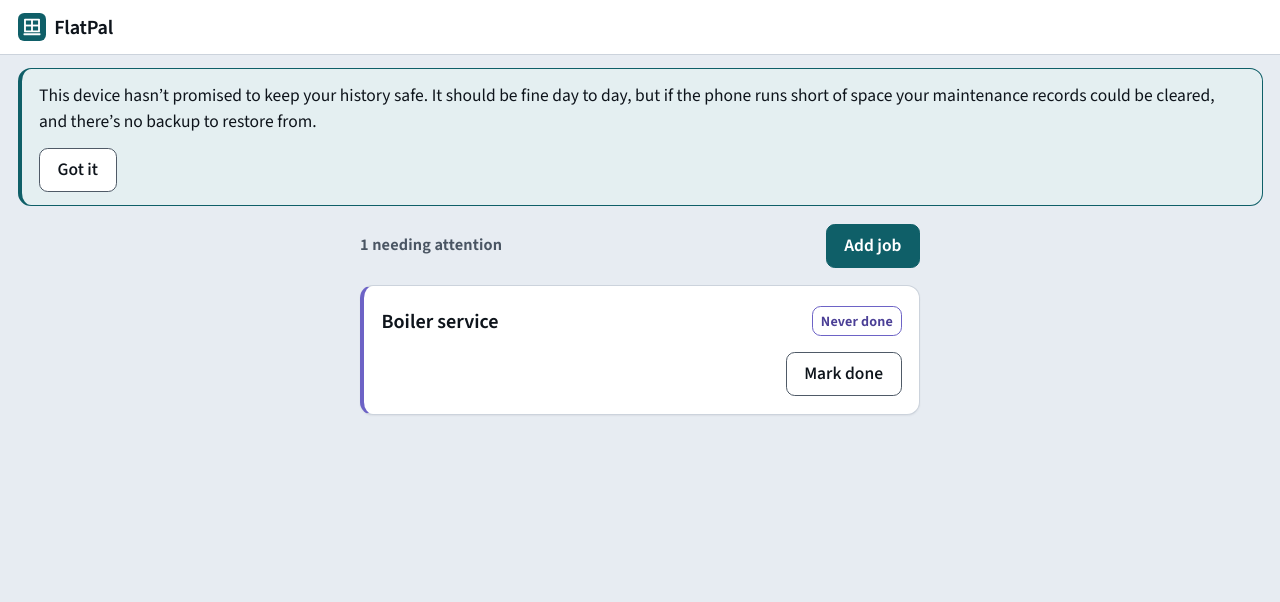
Test: recording a completion on a past date › accepts it and counts the schedule from that date
Click the button "Boiler service" at point(440, 321), box [382, 299, 499, 343]
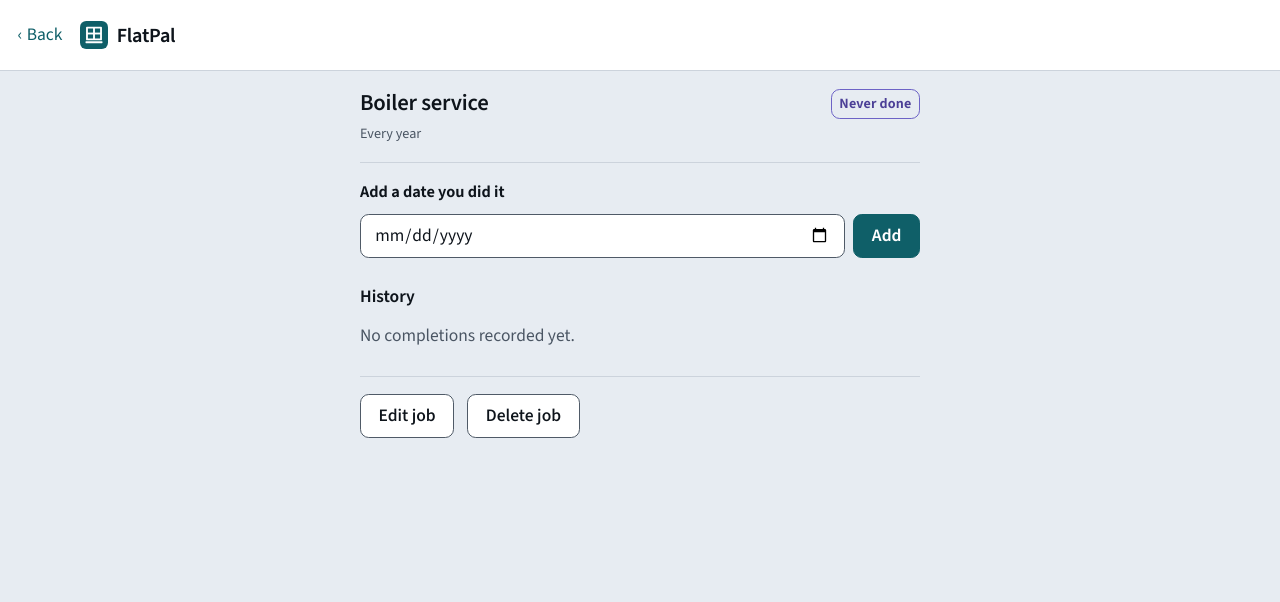
Expected: the heading "Boiler service" is shown, [360, 90, 488, 118]
Type "2025-08-08" into the date field labelled "Add a date you did it" at point(602, 236), box [360, 214, 845, 258]
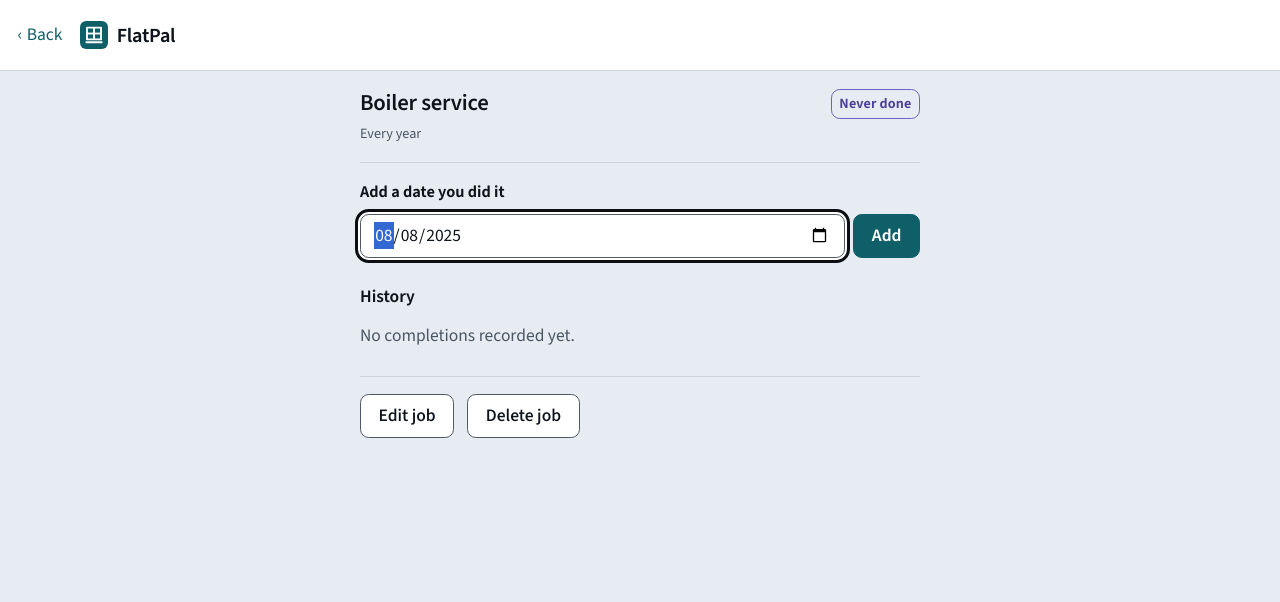
Click the button "Add" at point(887, 236), box [853, 214, 920, 258]
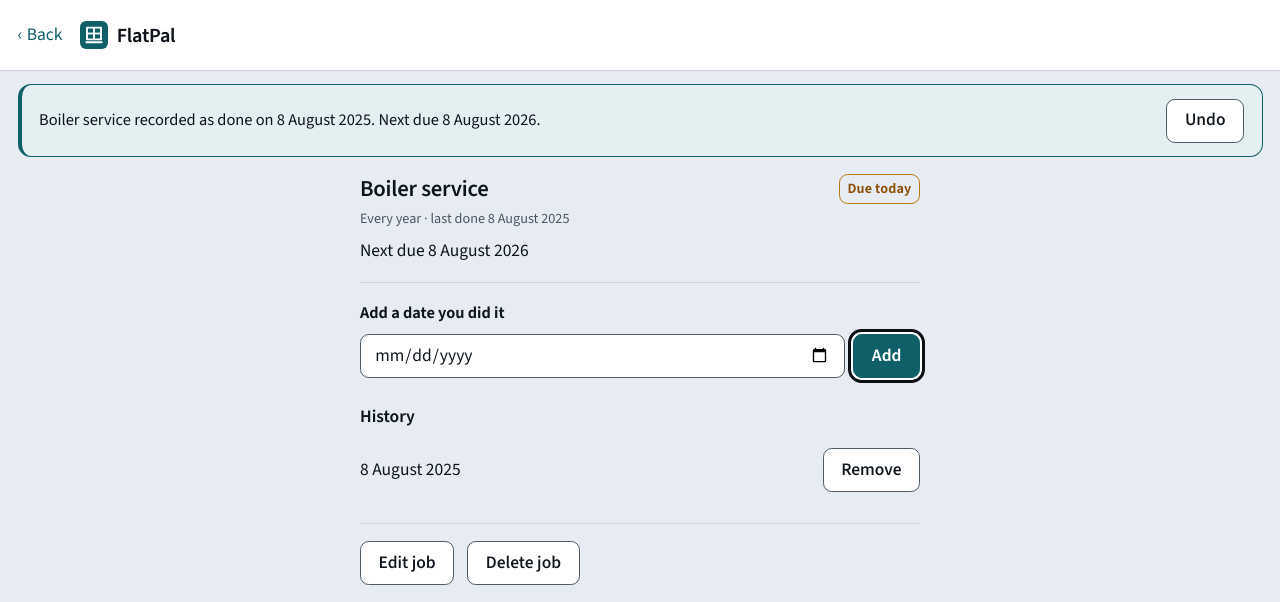
Result: the list item shows "8 August 2025" at [360, 457, 461, 482]
